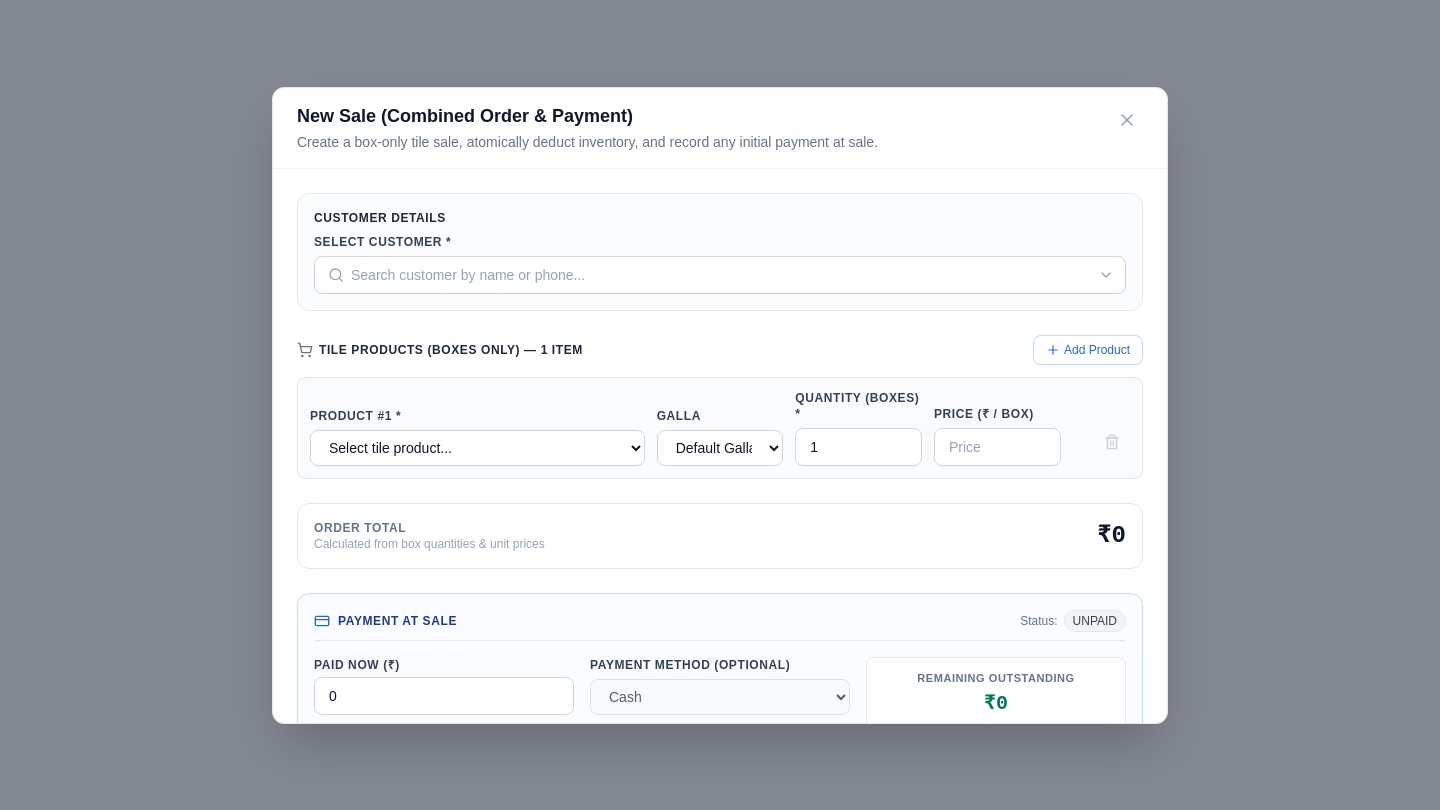
OrderCreateModal Component › Customer Searchable Select UX › allows clearing and changing the selected customer
# Select a customer
Type "cust-1" into the dropdown labelled "Select Customer *" at (720, 274), box [314,256,1126,294]
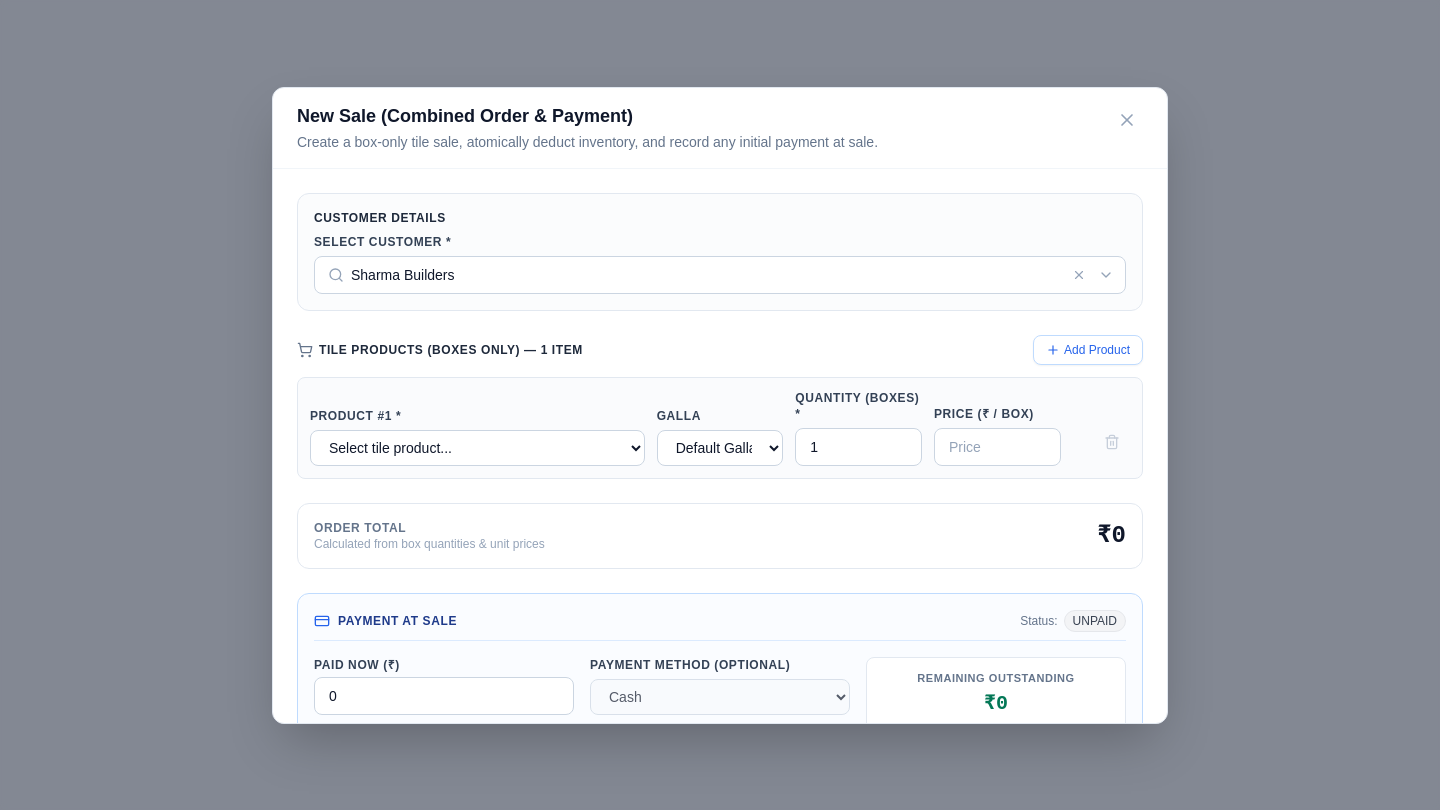
Expected: the dropdown labelled "Select Customer *" holds "Sharma Builders", [314,256,1126,294]
# Click clear button
Click the button named "Clear selection" at (1079, 274), box [1068,264,1090,286]
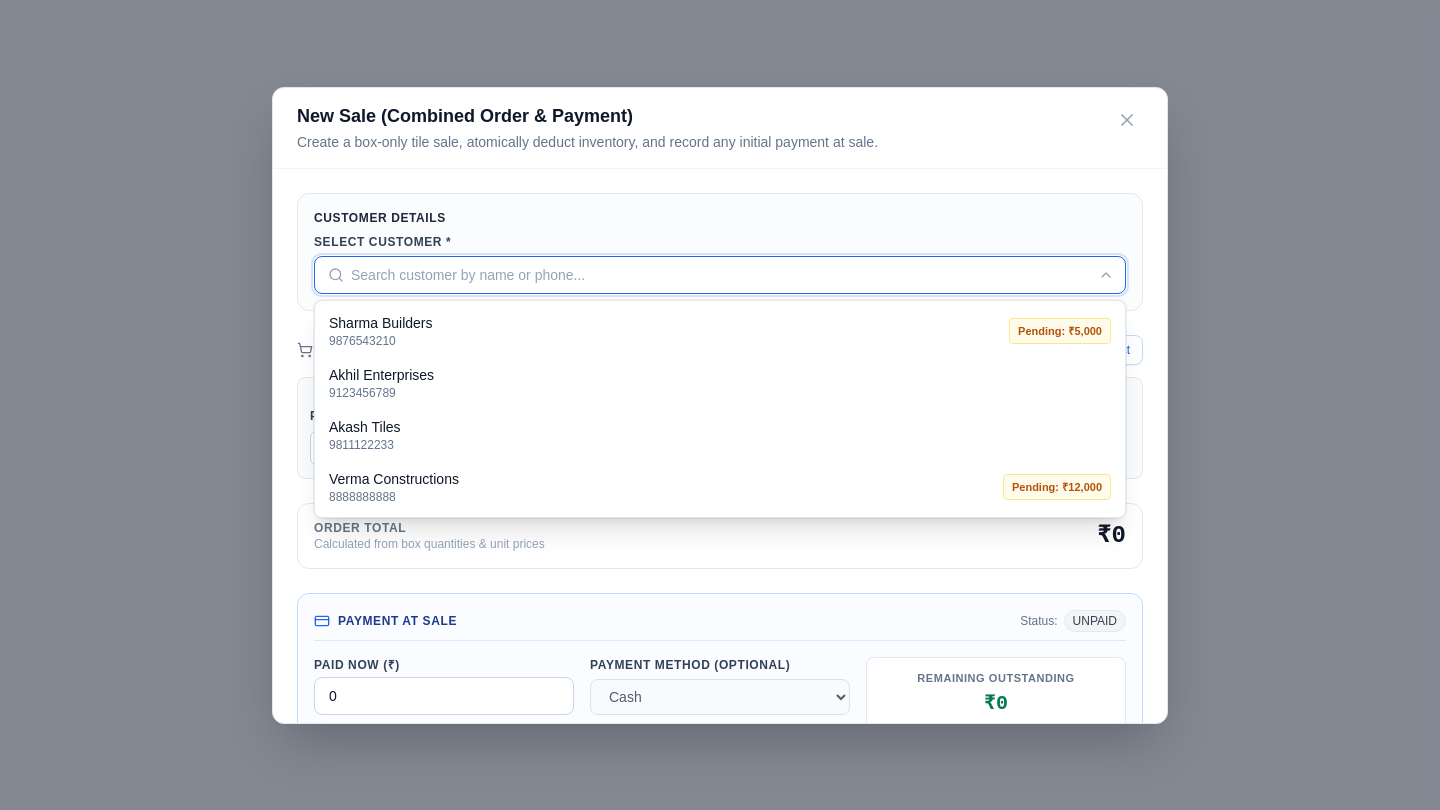
Expected: the dropdown labelled "Select Customer *" is empty
# Now search and select another customer
Type "akhil" into the dropdown labelled "Select Customer *" at (720, 274), box [314,256,1126,294]
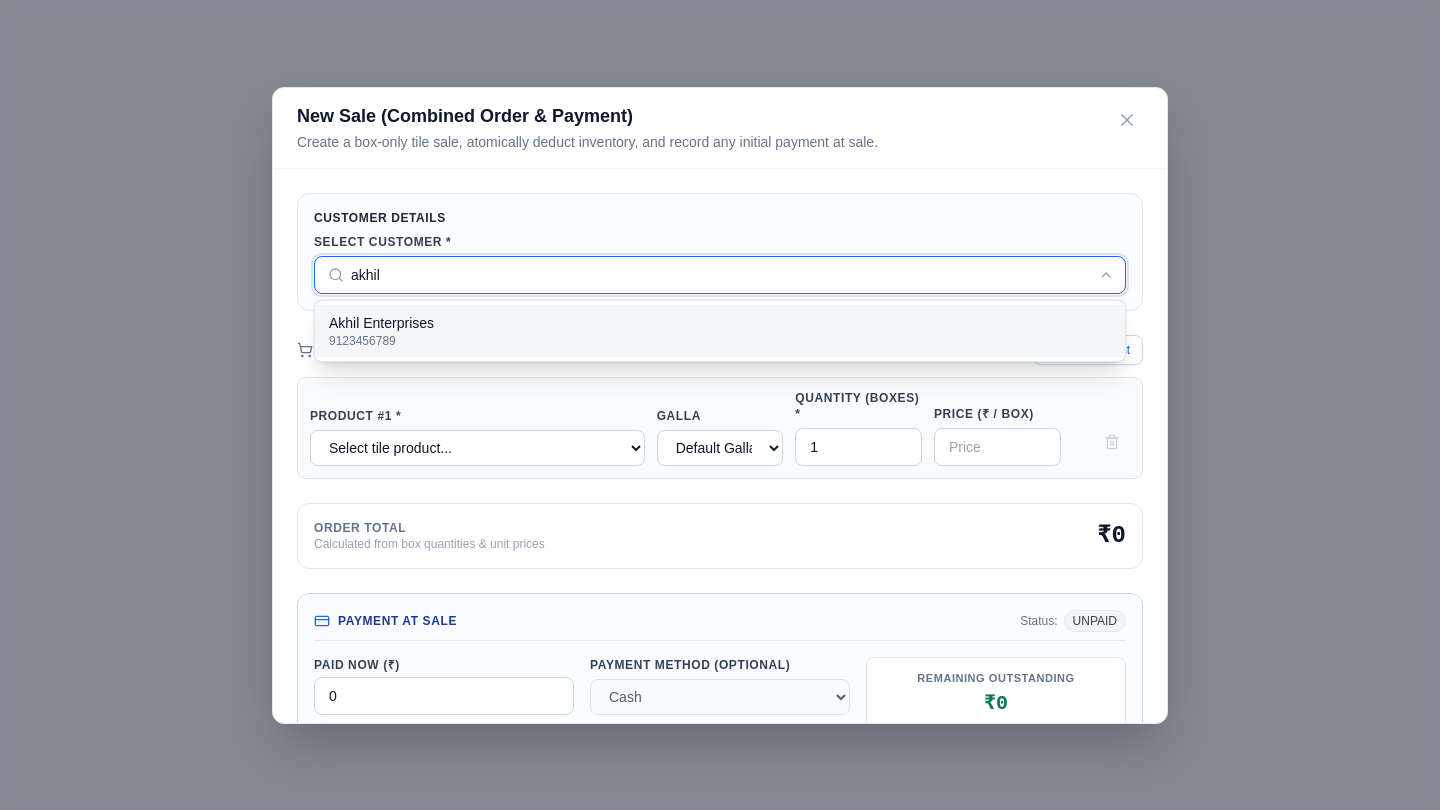
Click the text "Akhil Enterprises" at (382, 322), box [329,312,434,332]
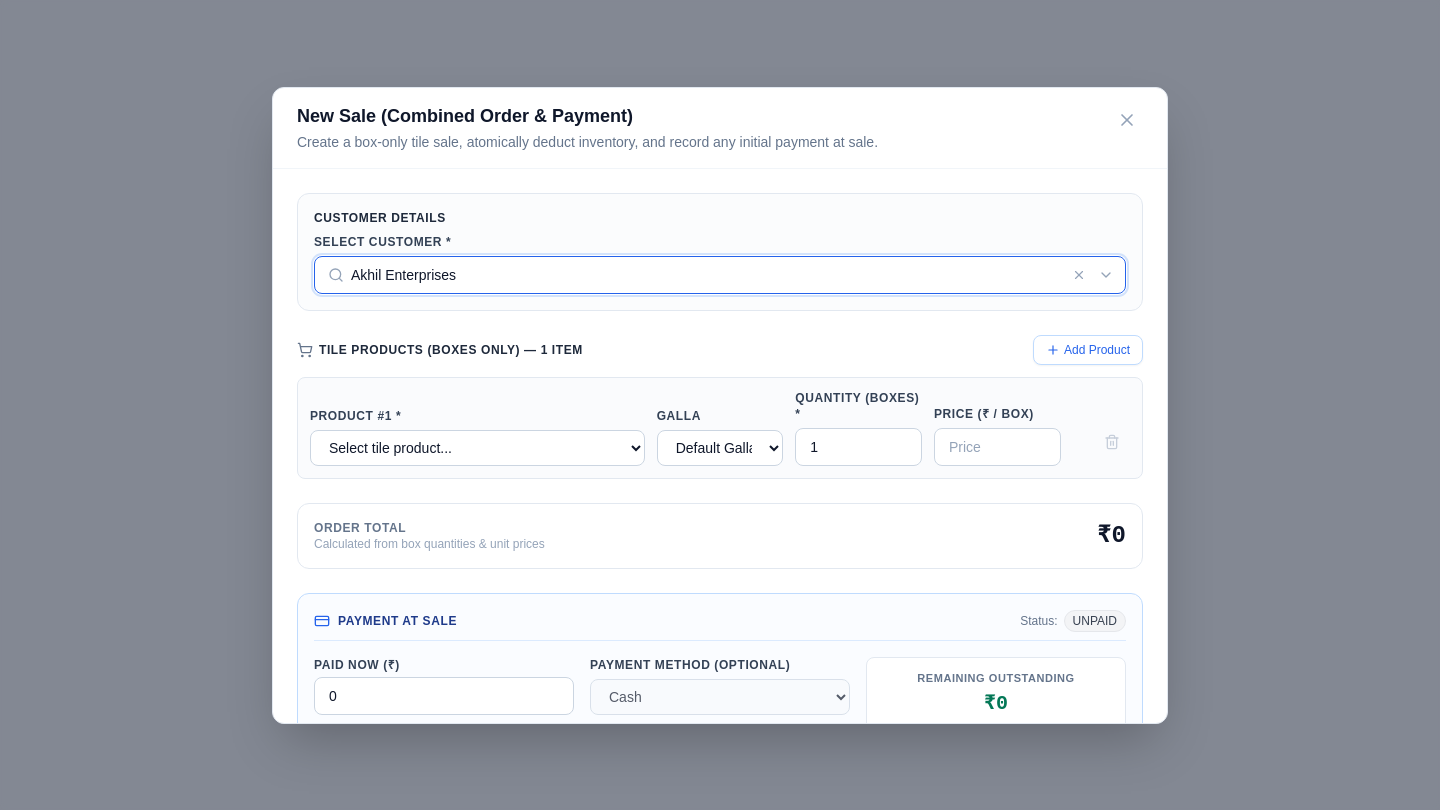
Expected: the dropdown labelled "Select Customer *" holds "Akhil Enterprises", [314,256,1126,294]
